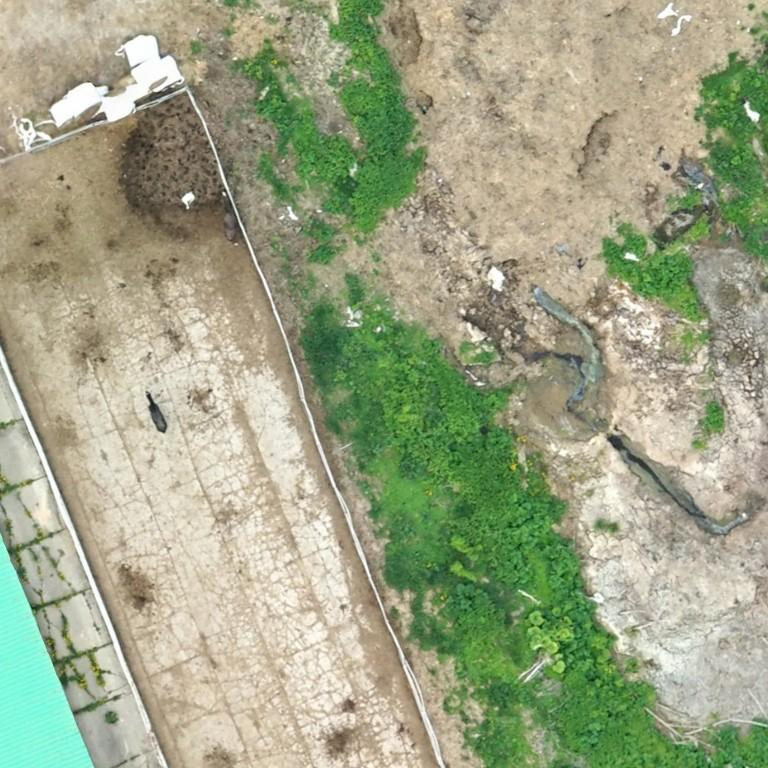hogweed: (329, 0, 426, 227), (490, 495, 594, 663), (561, 668, 681, 767), (604, 235, 692, 297), (685, 727, 767, 767), (298, 135, 355, 179), (442, 430, 511, 454), (454, 582, 493, 612), (258, 72, 281, 114)
